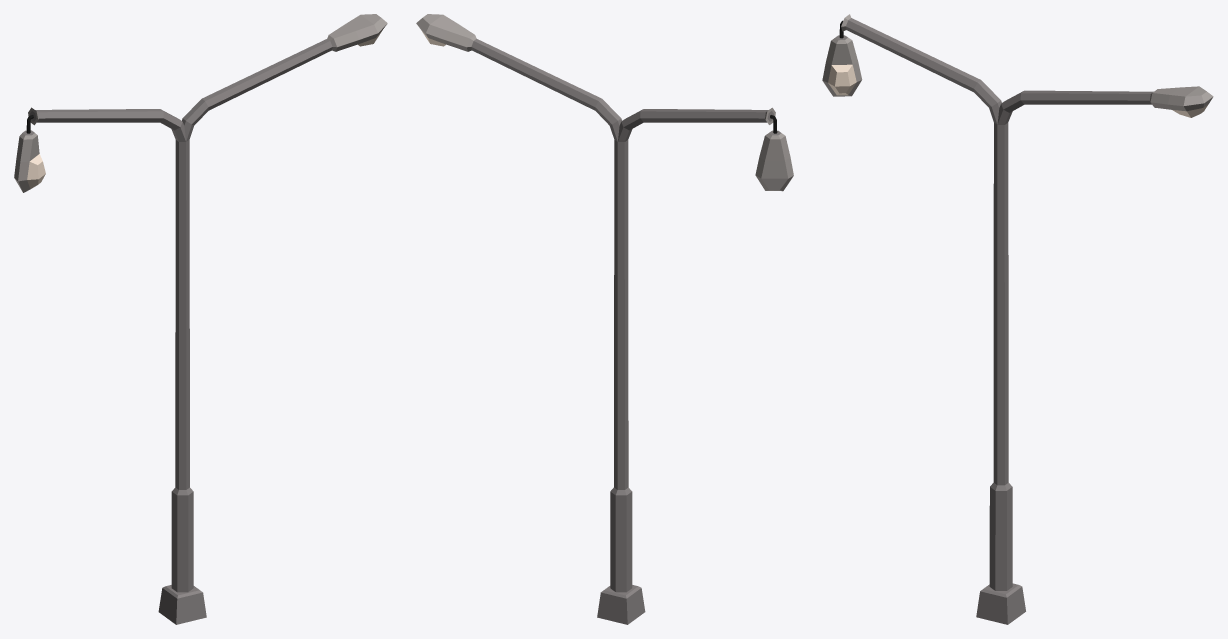
The model's file is apocalypse_lamp-road-double-apocalypse-c.fbx.
The picture shows the model from 3 angles, left to right: view 1: azimuth 30°, elevation 25°; view 2: azimuth 150°, elevation 25°; view 3: azimuth 330°, elevation 25°; orthographic projection. The views are drawn at different scales.
Visible parts, largest first — view 1: apocalypse_lamp_road_double_apocalypse_c; view 2: apocalypse_lamp_road_double_apocalypse_c; view 3: apocalypse_lamp_road_double_apocalypse_c.
Boxes of the visible parts, <box> form: apocalypse_lamp_road_double_apocalypse_c: <box>14,14,387,624</box>; apocalypse_lamp_road_double_apocalypse_c: <box>416,14,793,624</box>; apocalypse_lamp_road_double_apocalypse_c: <box>822,14,1213,624</box>.
Size of the model in its own units: 140 by 200 by 12.68.
